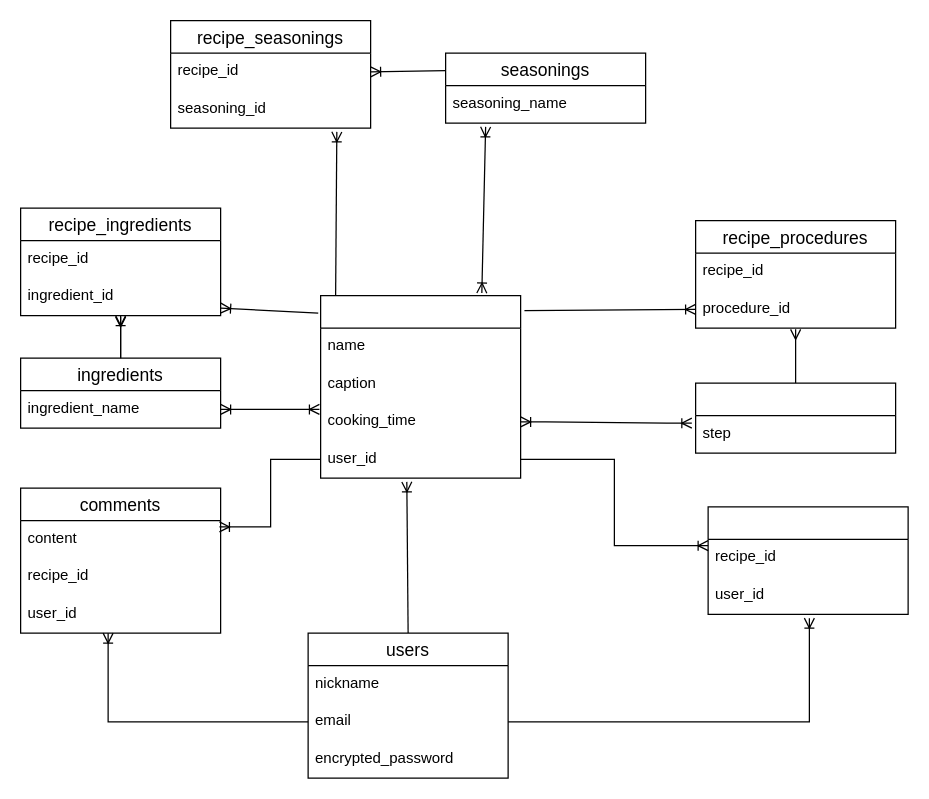
Image size: 929x799. Some labels were removed from this diagram. Each missing label, with the box of its shape:
favorites: (707, 506, 908, 614)
procedures: (694, 382, 896, 453)
recipes: (319, 294, 521, 478)
